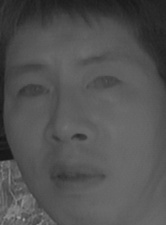eye: (84, 72, 125, 94), (14, 81, 52, 101)
mouth: (46, 160, 108, 197)
